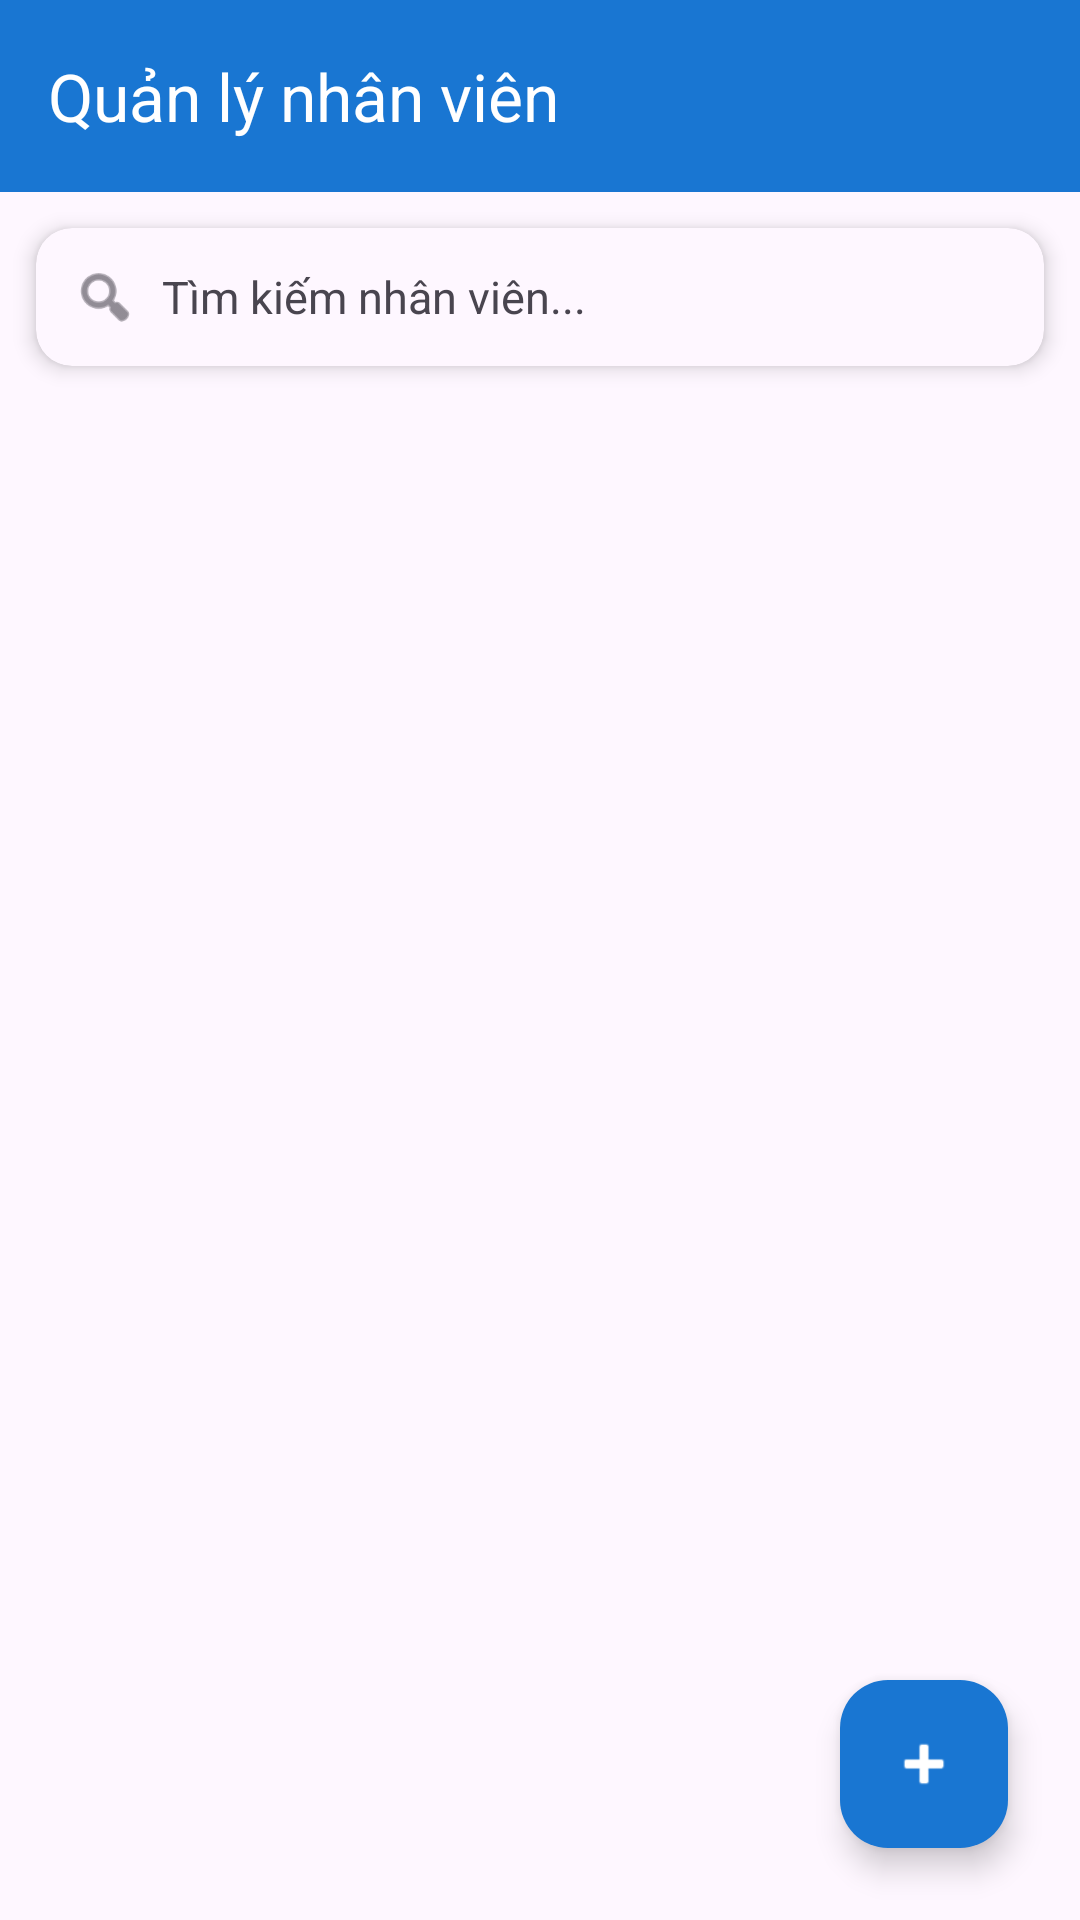

Screen size 1080 × 1920. Icon name, then its center in pixels as (x,y):
add: (924,1764)
search: (105,297)
